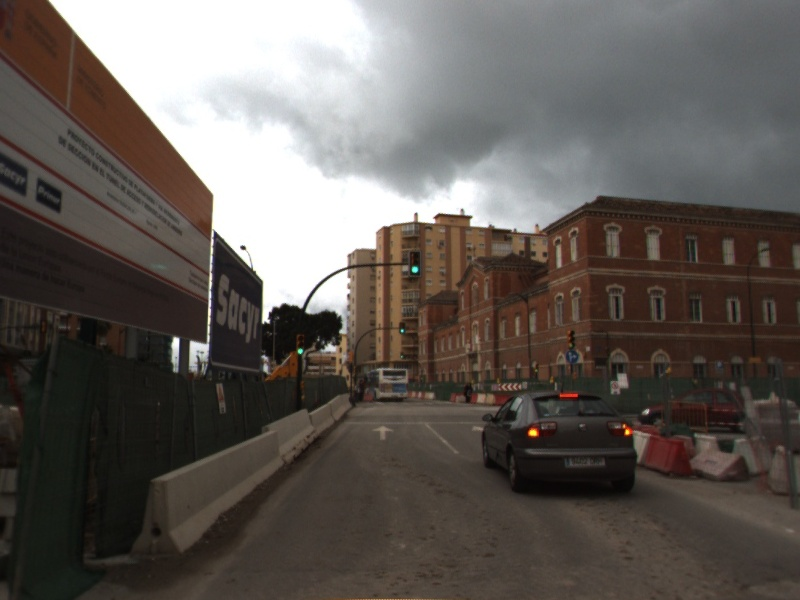STRAIGHT: (370, 424, 396, 442)
